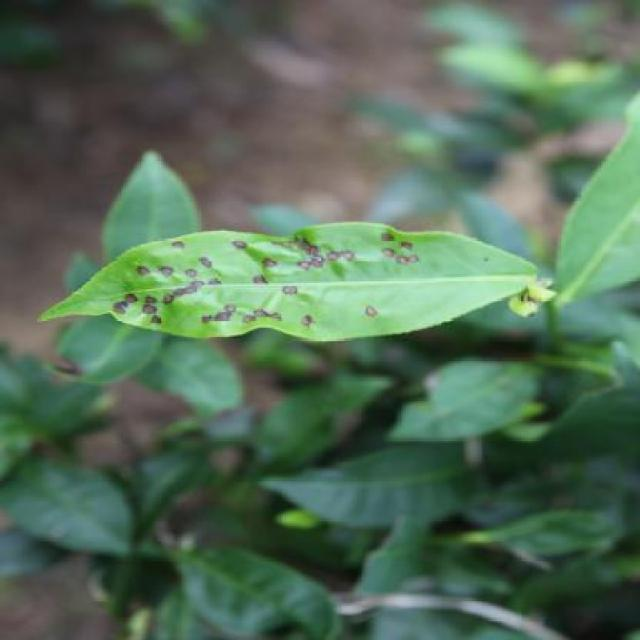Tea Mosquito bug infested leaf: (29, 215, 543, 337)
